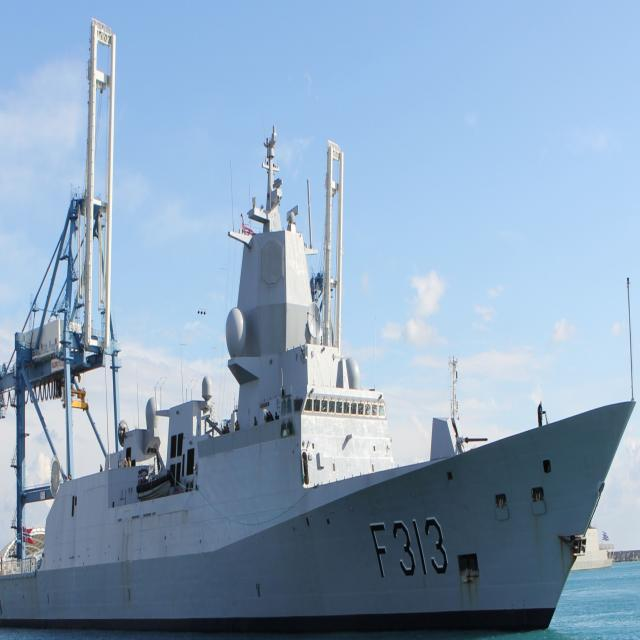Fragata: (1, 115, 438, 640)
